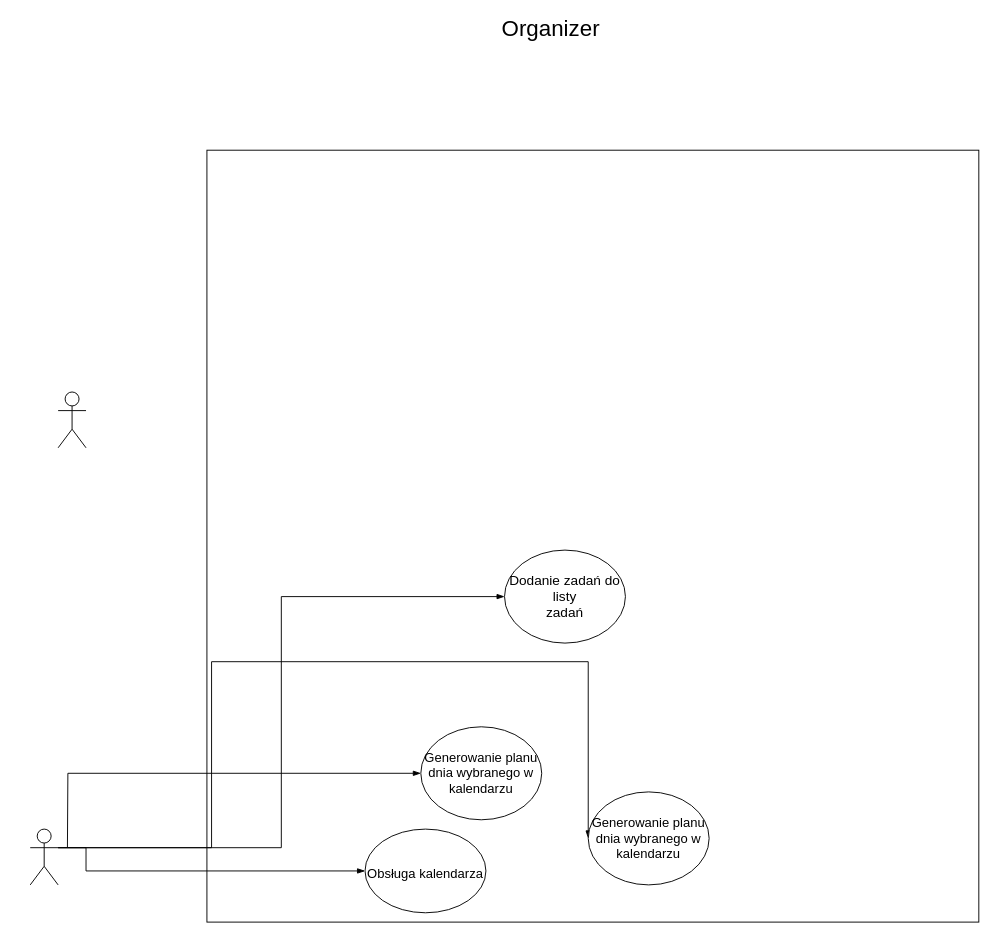
The diagram is 995 pixels wide and 938 high, and some of its shapes have lost their labels. The centre of each missing label's shape, as x and y in pixels:
System: the point at 71,419
Użytkownik: the point at 43,856
